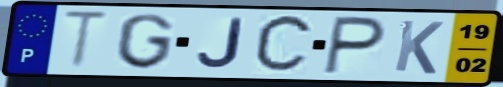C: (250, 12, 317, 77)
G: (114, 12, 176, 72)
J: (195, 16, 246, 70)
K: (391, 18, 447, 76)
P: (320, 14, 389, 77)
T: (59, 8, 113, 72)
